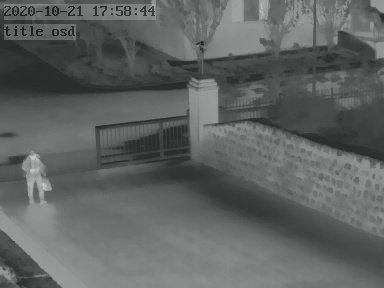person: (20, 147, 50, 204)
